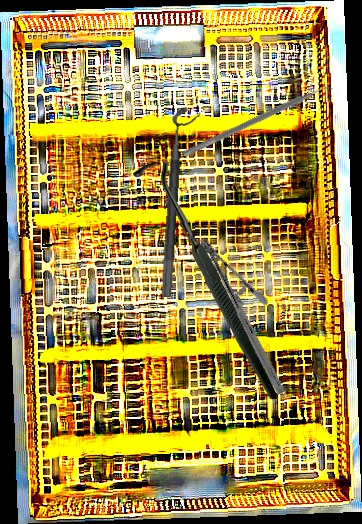Fixation Ring: (159, 105, 202, 299)
Hook Surgical: (129, 161, 282, 399)
Needle Holder: (152, 234, 333, 398)
Spatula Surgical: (182, 79, 335, 165)
